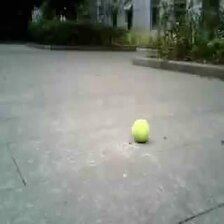tennis: (131, 119, 150, 143)
